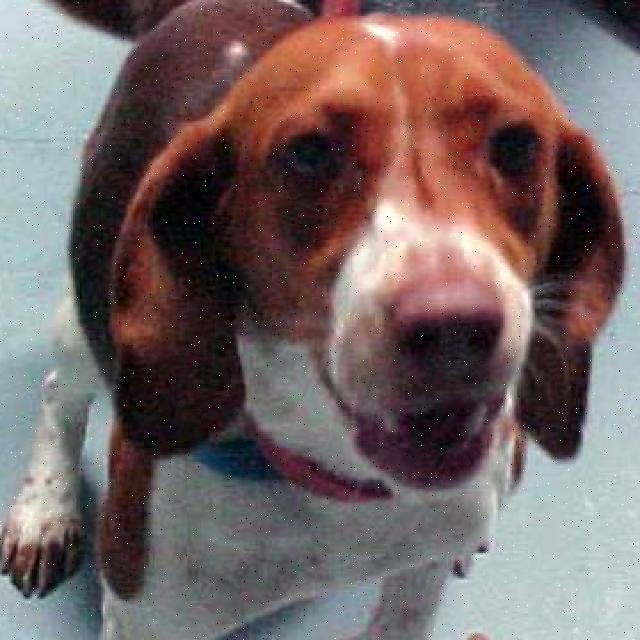Dog: (98, 0, 624, 523)
